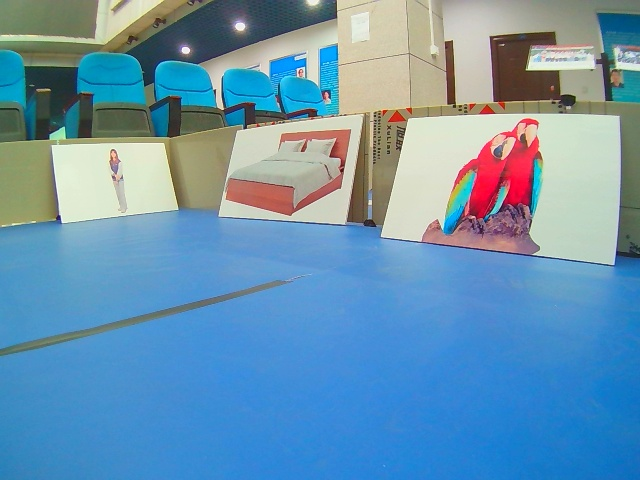bed: (223, 125, 356, 228)
person: (53, 146, 178, 217)
pet: (387, 115, 618, 269)
